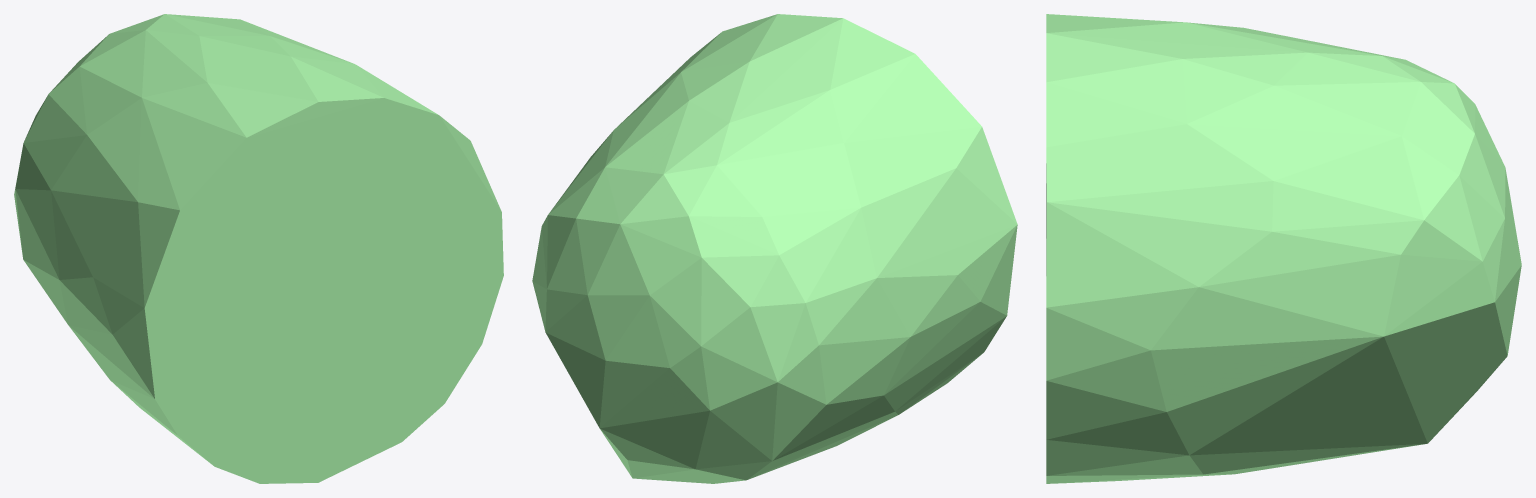
Rendered from panda_link5_resp_coll_4.dae.
3 renders of one model, left to right at view 1: azimuth 30°, elevation 25°; view 2: azimuth 150°, elevation 25°; view 3: azimuth 270°, elevation 25°, orthographic. The views are drawn at different scales.
Parts seen in each view (by area): view 1: node; view 2: node; view 3: node.
Boxes of the visible parts, x1,y1,x2,y2 form: node: (14,14,503,483); node: (532,14,1017,483); node: (1046,14,1521,483).
Size of the model in its own units: 0.1097 by 0.111 by 0.1118.
